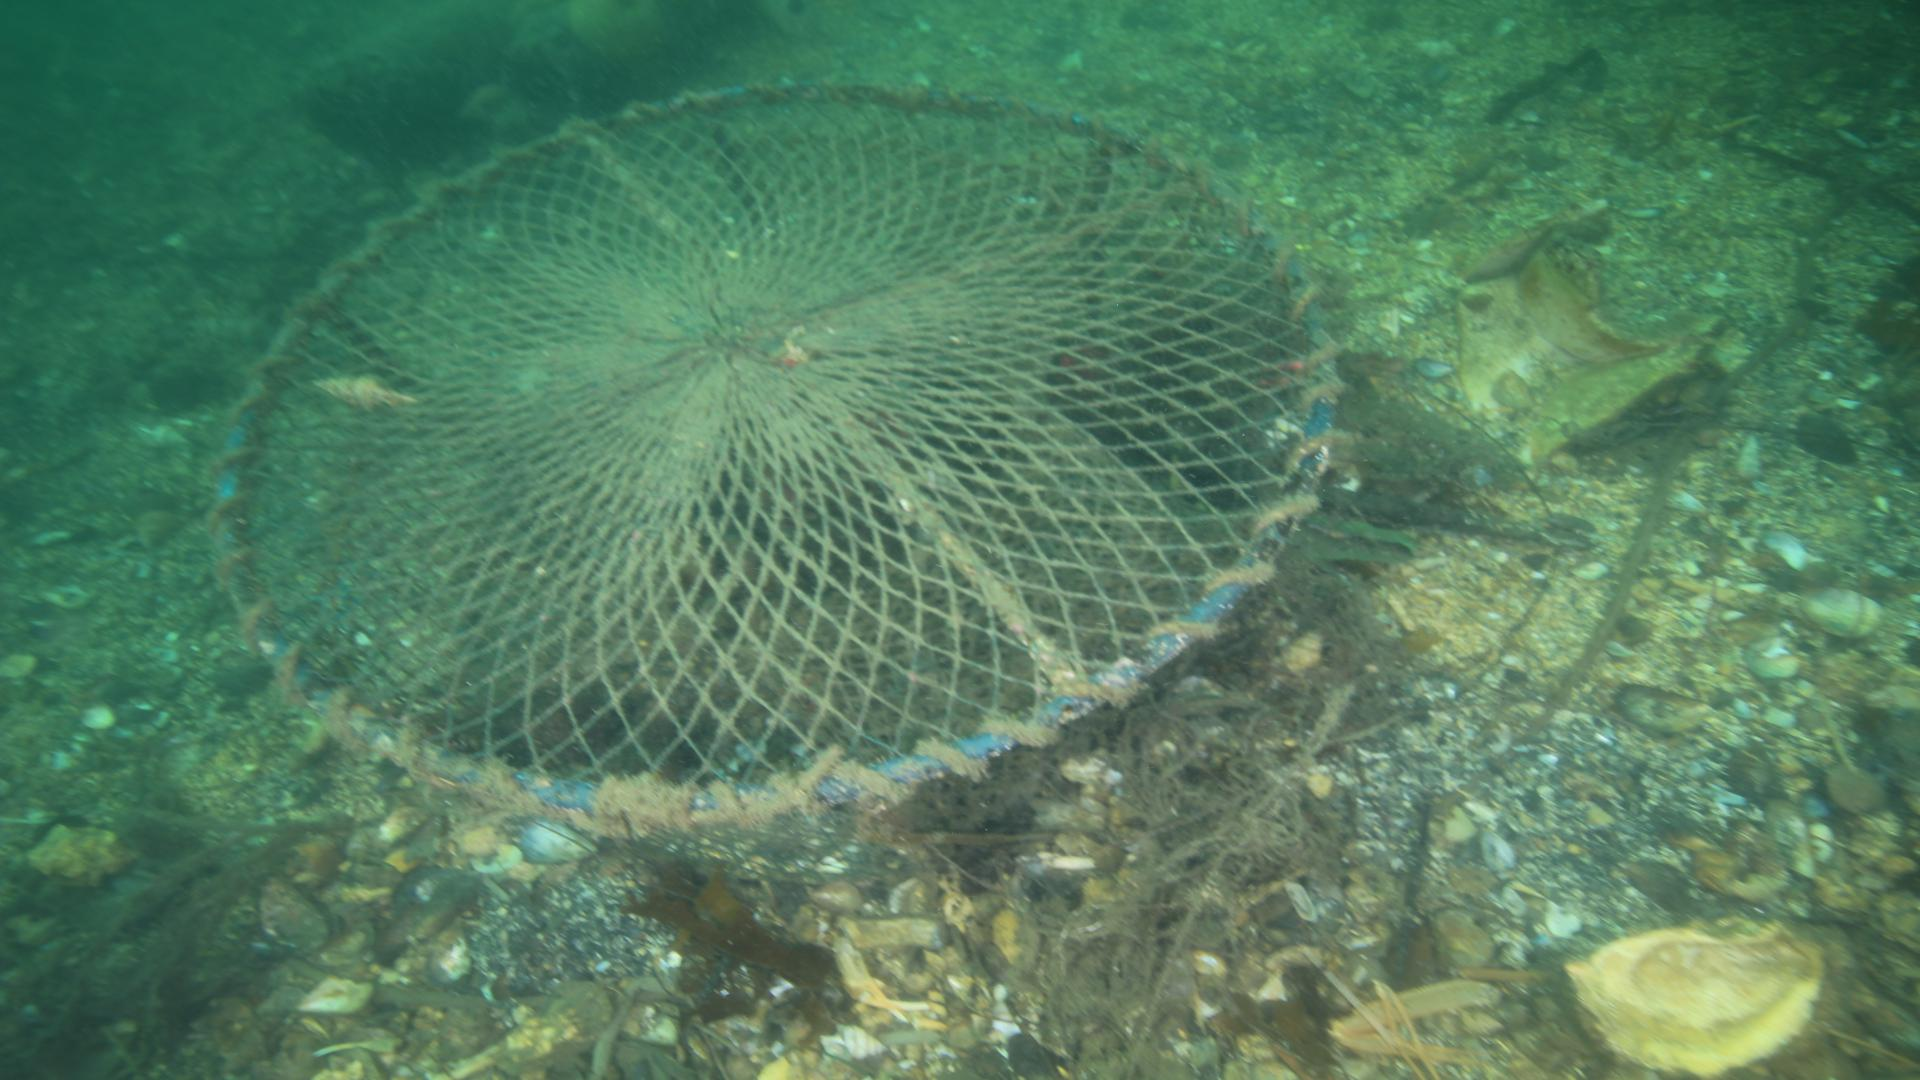circular fish trap: (210, 78, 1350, 837)
